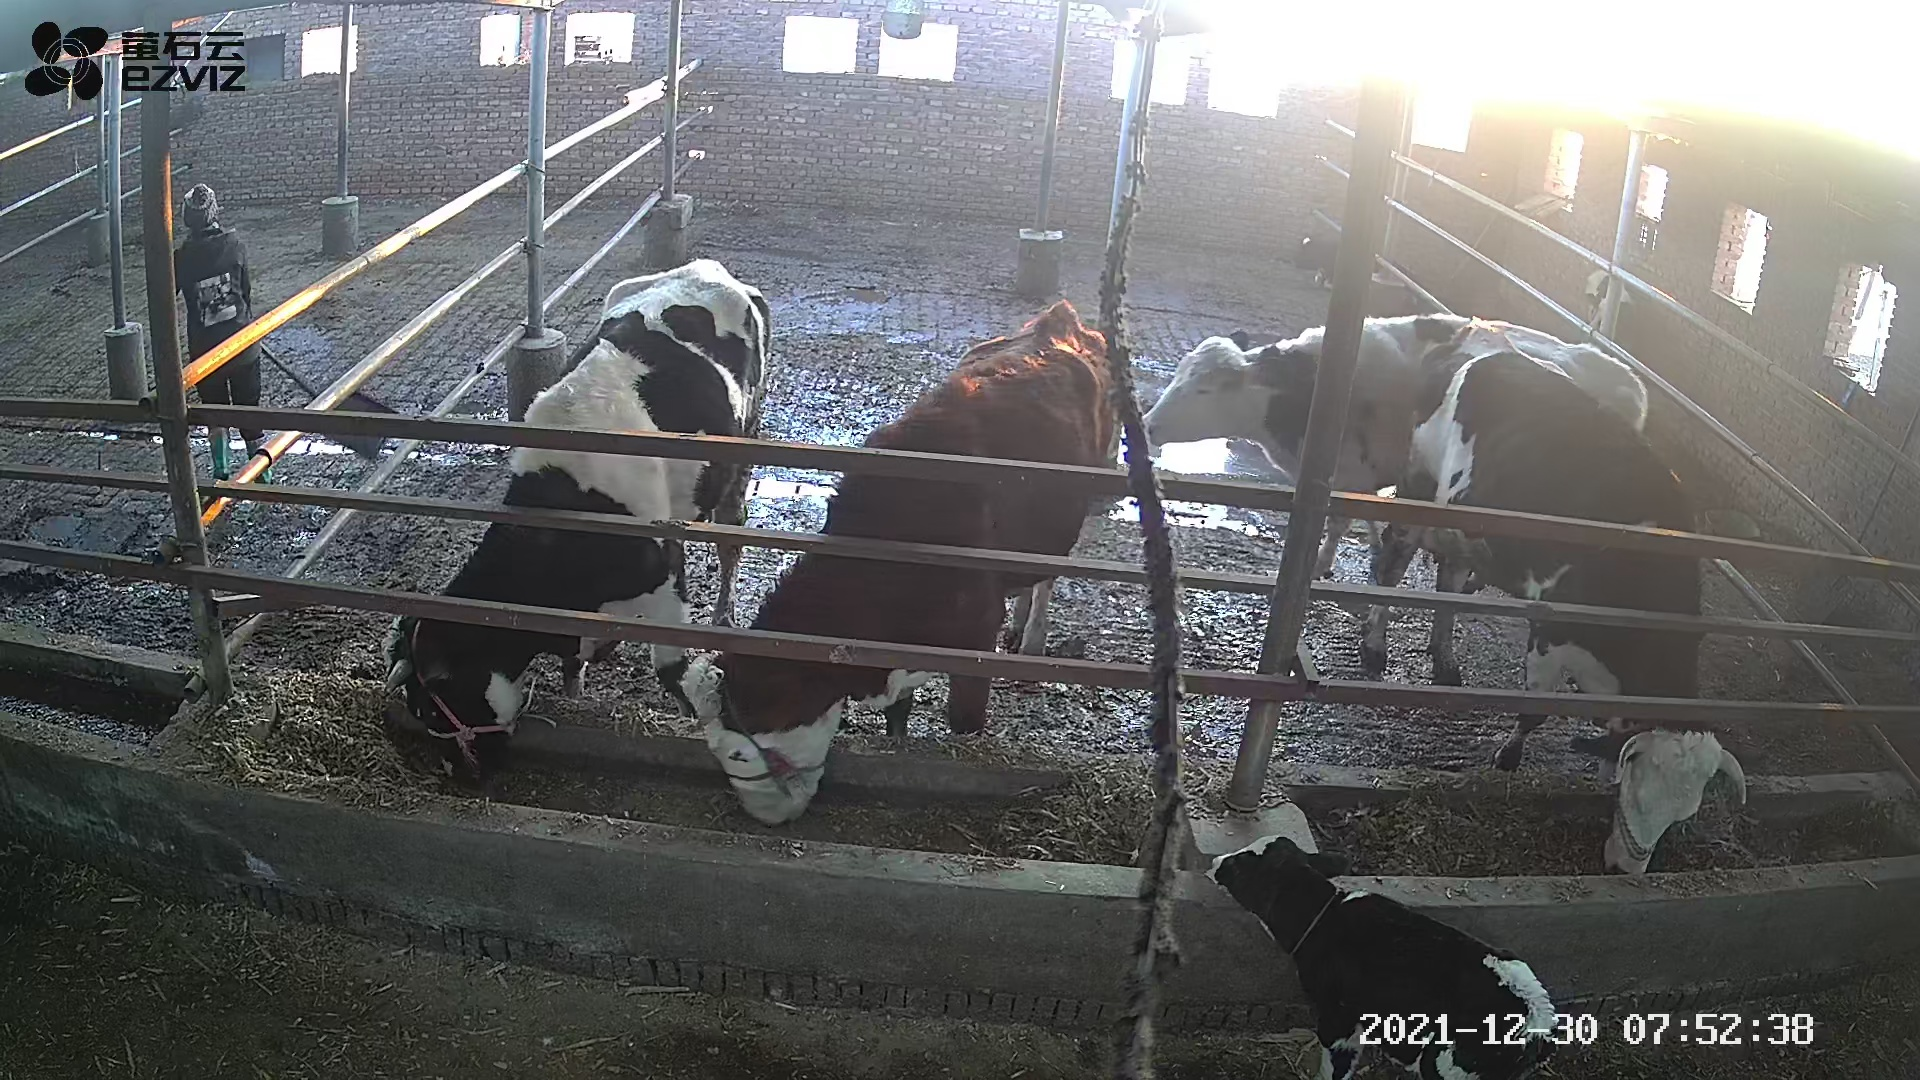cow: (679, 295, 1116, 818), (1346, 316, 1749, 872), (378, 257, 767, 781), (1145, 313, 1648, 595)
